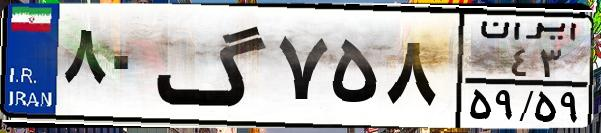0: (110, 28, 156, 98)
3: (537, 27, 568, 80)
4: (508, 27, 537, 80)
5: (330, 28, 385, 110), (470, 70, 495, 125), (535, 70, 560, 125)
7: (270, 28, 330, 110)
8: (385, 28, 445, 110), (57, 26, 110, 100)
9: (560, 70, 590, 125), (495, 70, 520, 125)
گ: (156, 12, 270, 120)
